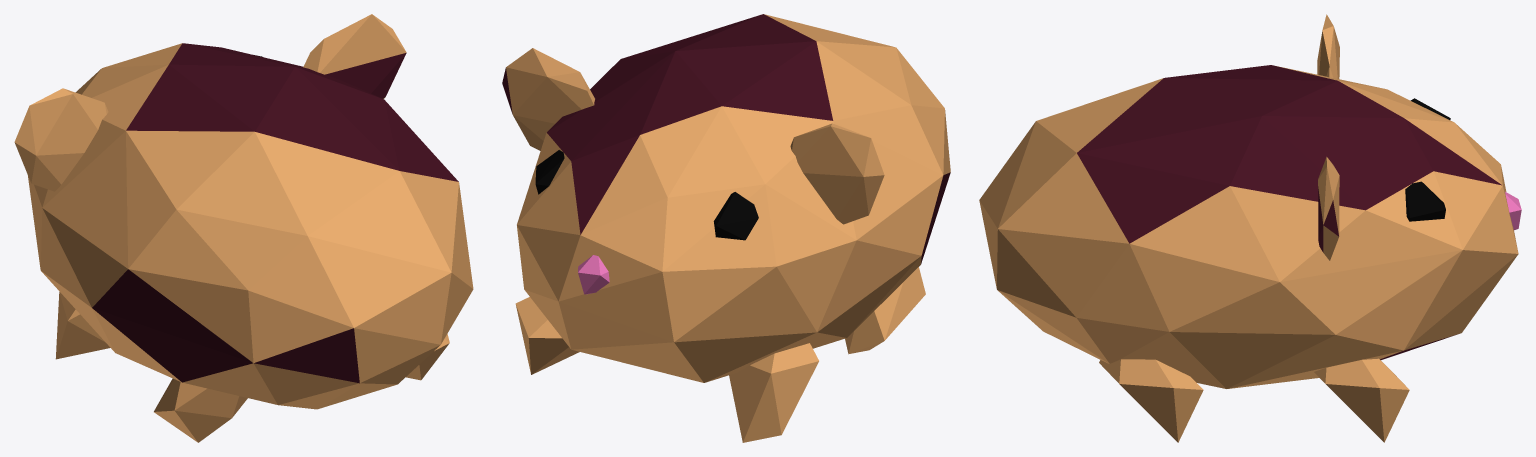
Rendered from krecek.glb.
3 views of the same model, side by side, from view 1: azimuth 30°, elevation 25°; view 2: azimuth 150°, elevation 25°; view 3: azimuth 270°, elevation 25° (orthographic). The views are drawn at different scales.
Parts seen in each view (by area): view 1: Icosphere.003; view 2: Icosphere.003, Icosphere.001, Icosphere.002, Icosphere; view 3: Icosphere.003, Icosphere.
Part boxes in pixels (left/top/right/bottom): Icosphere.003: left=14, top=14, right=473, bottom=442; Icosphere.003: left=502, top=14, right=950, bottom=442; Icosphere.001: left=713, top=192, right=758, bottom=240; Icosphere.002: left=578, top=255, right=609, bottom=294; Icosphere: left=535, top=150, right=564, bottom=194; Icosphere.003: left=979, top=14, right=1518, bottom=442; Icosphere: left=1405, top=181, right=1445, bottom=221.
Bounding box in the file's own units: 2.48 × 1.87 × 3.13.
